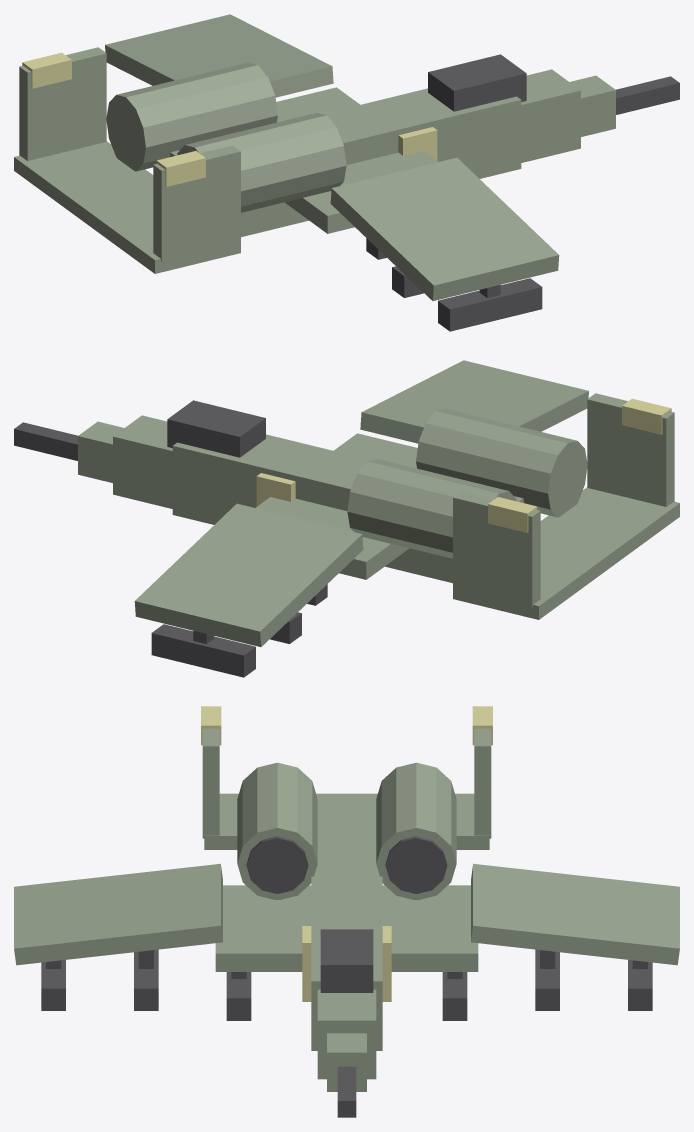
The model's file is attack_plane.glb.
3 views of the same model, one above another, from view 1: azimuth 30°, elevation 25°; view 2: azimuth 150°, elevation 25°; view 3: azimuth 270°, elevation 25° (orthographic).
Visible parts, largest first — view 1: Plane, accent_Plane, trim_Plane; view 2: Plane, accent_Plane, trim_Plane; view 3: Plane, accent_Plane, trim_Plane.
Boxes of the visible parts, x1=… form: Plane: x1=14, y1=14, x2=615, y2=300; accent_Plane: x1=366, y1=54, x2=679, y2=331; trim_Plane: x1=22, y1=52, x2=437, y2=186; Plane: x1=78, y1=360, x2=679, y2=646; accent_Plane: x1=14, y1=400, x2=327, y2=677; trim_Plane: x1=256, y1=398, x2=671, y2=532; Plane: x1=14, y1=728, x2=679, y2=1091; accent_Plane: x1=41, y1=836, x2=652, y2=1117; trim_Plane: x1=201, y1=706, x2=492, y2=1001.
Size of the model in its own units: 4.47 by 1.13 by 4.31.
